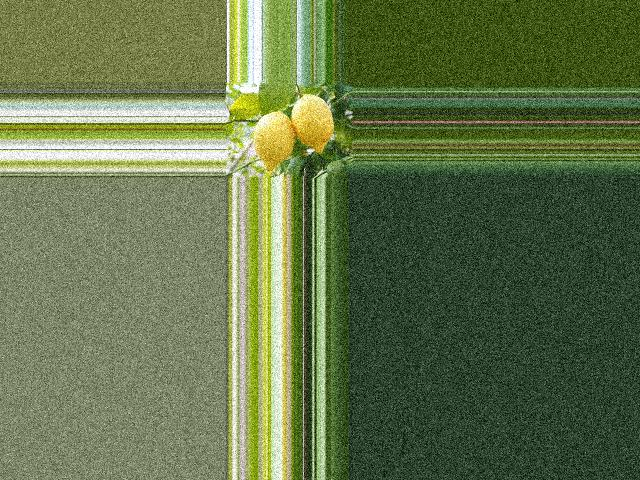lemon: (249, 107, 297, 169)
